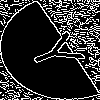Y: (25, 25, 98, 76)
